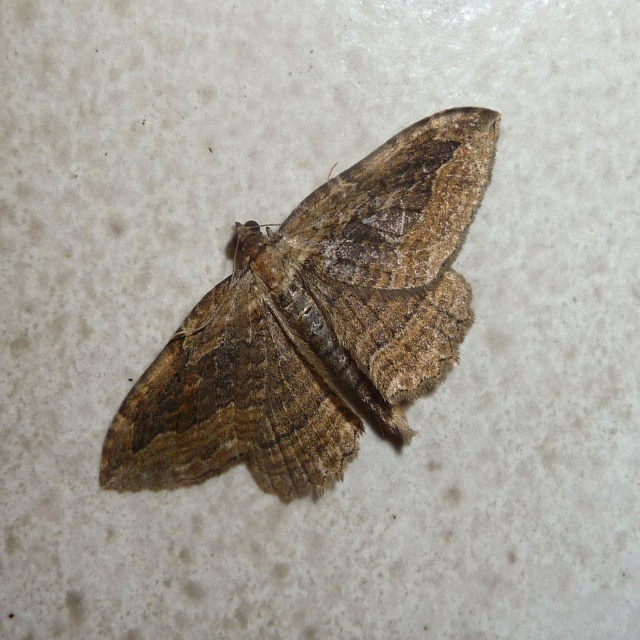Moths and butterflies: (97, 103, 506, 499)
